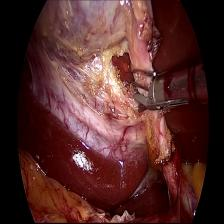Clipper: (129, 70, 170, 117)
